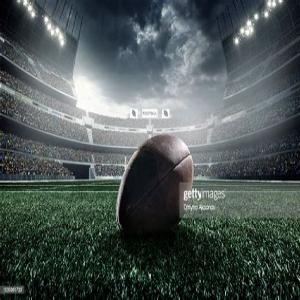Rugby: (116, 132, 194, 238)
